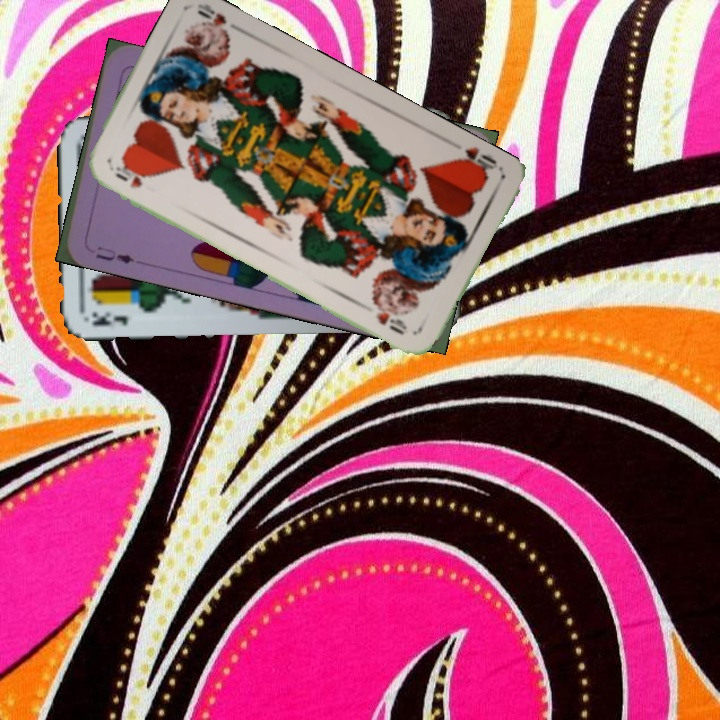EK: (87, 307, 131, 329)
EU: (91, 242, 137, 267)
HO: (450, 143, 504, 181), (106, 162, 145, 191)
